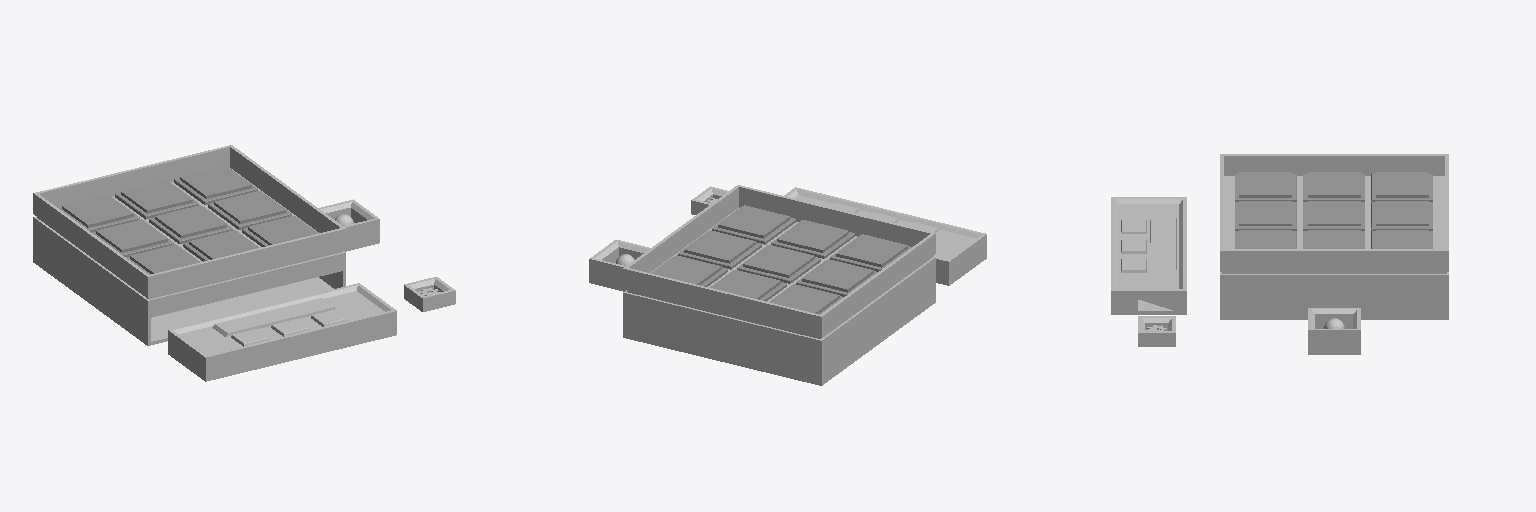
File: puzzle.obj
The picture shows the model from 3 angles: view 1: azimuth 30°, elevation 25°; view 2: azimuth 150°, elevation 25°; view 3: azimuth 270°, elevation 25°; orthographic projection.
Visible parts, largest first — view 1: Board_Cube.002, Piece_Cube, FrontTray_Cube.004, ButtonResolve_Cube.003, SideTrayLoading_Cube.000, SideTray_Cube.001; view 2: Board_Cube.002, Piece_Cube, FrontTray_Cube.004, SideTrayLoading_Cube.000; view 3: Board_Cube.002, Piece_Cube, FrontTray_Cube.004, SideTrayLoading_Cube.000, ButtonResolve_Cube.003, SideTray_Cube.001.
Boxes of the visible parts, <box> form: Board_Cube.002: <box>33,145,345,345</box>; Piece_Cube: <box>58,166,318,274</box>; FrontTray_Cube.004: <box>168,283,396,381</box>; ButtonResolve_Cube.003: <box>213,298,335,336</box>; SideTrayLoading_Cube.000: <box>319,199,379,251</box>; SideTray_Cube.001: <box>404,277,455,311</box>; Board_Cube.002: <box>623,185,935,385</box>; Piece_Cube: <box>651,205,911,314</box>; FrontTray_Cube.004: <box>784,187,986,285</box>; SideTrayLoading_Cube.000: <box>589,240,650,291</box>; Board_Cube.002: <box>1220,154,1448,319</box>; Piece_Cube: <box>1235,172,1432,248</box>; FrontTray_Cube.004: <box>1111,197,1186,314</box>; SideTrayLoading_Cube.000: <box>1308,308,1360,354</box>; ButtonResolve_Cube.003: <box>1150,218,1176,274</box>; SideTray_Cube.001: <box>1138,316,1175,346</box>.
Bounding box in the file's own units: 8.35 × 2 × 8.86.